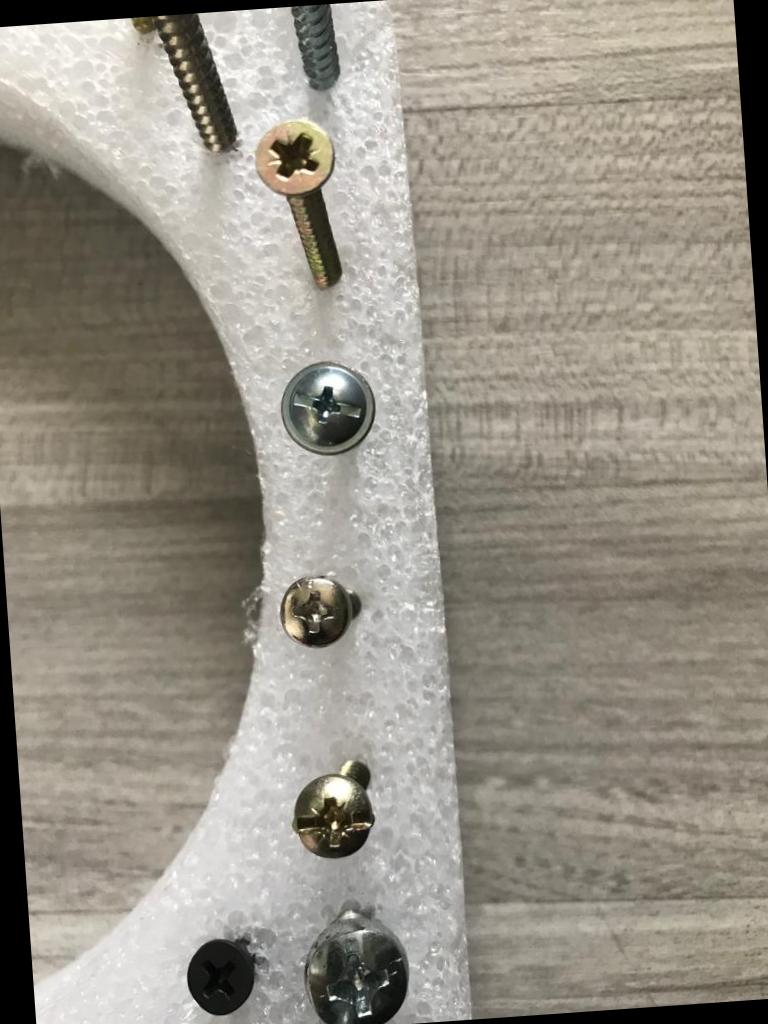PH: (301, 920, 412, 1024), (276, 357, 378, 454), (288, 768, 376, 860), (252, 114, 336, 195), (274, 570, 352, 650), (181, 934, 255, 1016)
